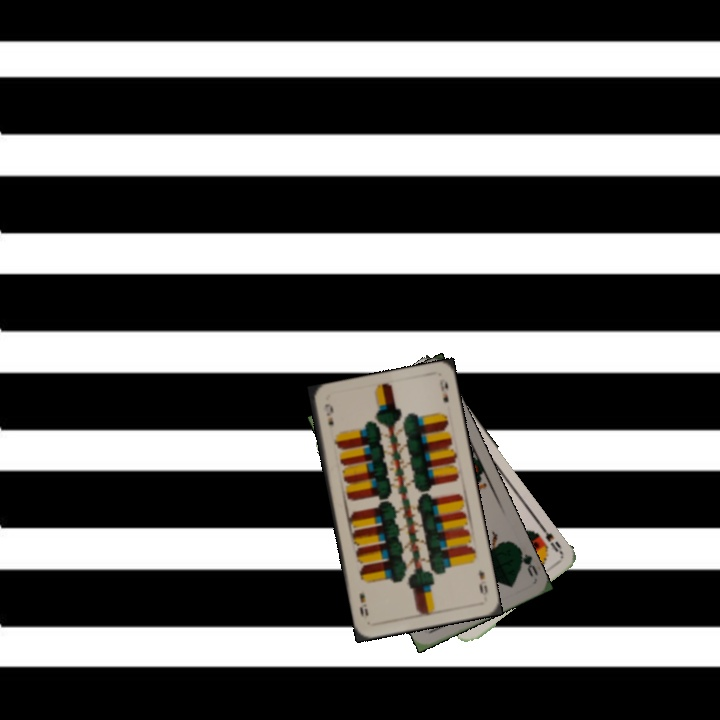E9: (475, 566, 490, 596), (321, 399, 336, 428)
GO: (513, 542, 540, 579)
SO: (537, 522, 566, 557)
